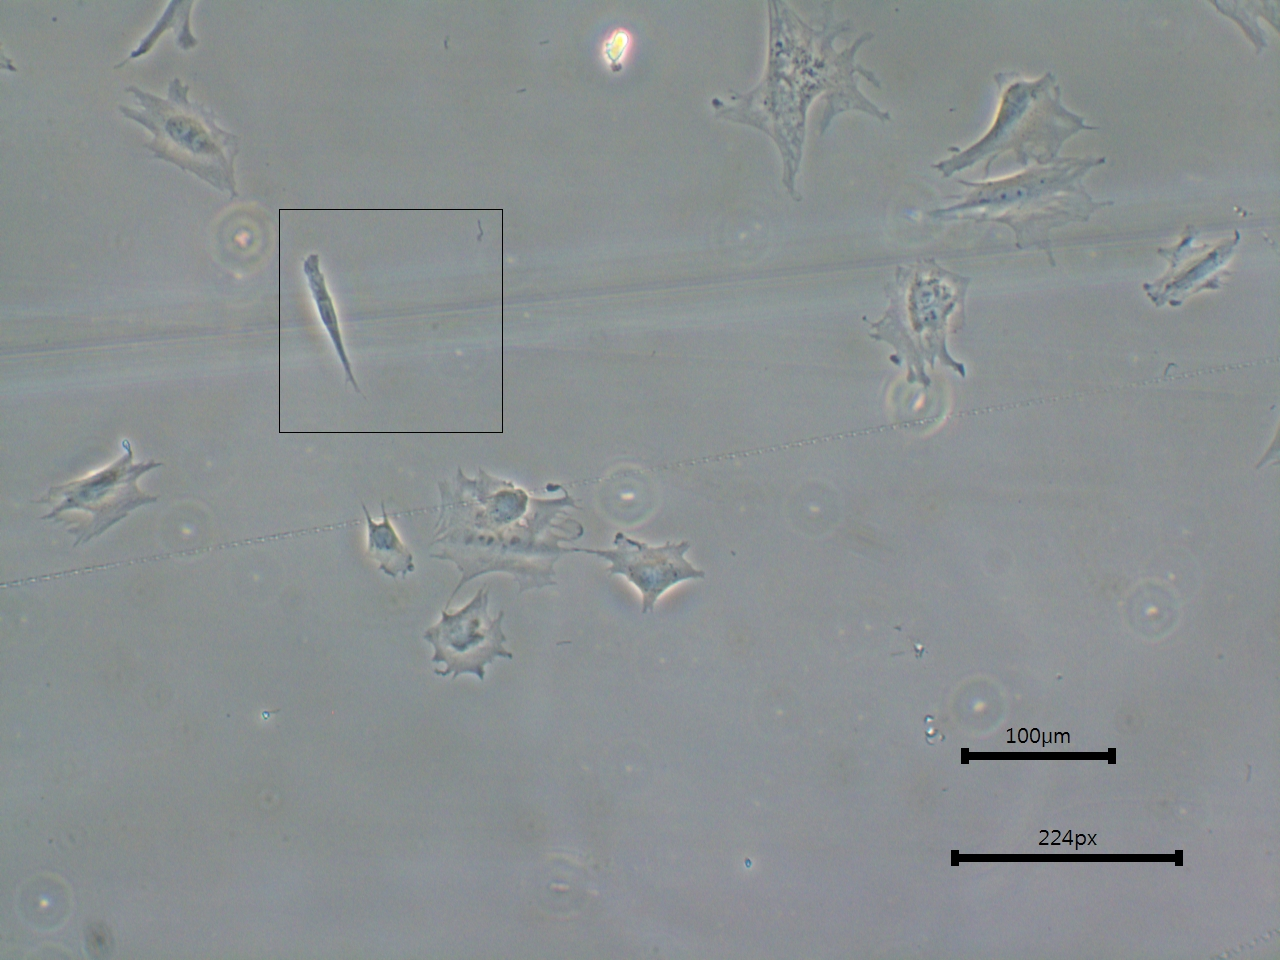dividing: (116, 73, 251, 208), (867, 254, 980, 395)
large-polygonal: (919, 157, 1112, 247)
large-spread: (703, 9, 887, 205)
medium-polygonal: (294, 250, 385, 402), (1144, 219, 1252, 312)
medium-spread: (30, 445, 170, 558)
small-spread: (404, 593, 522, 693), (593, 530, 702, 624), (343, 499, 413, 589)
